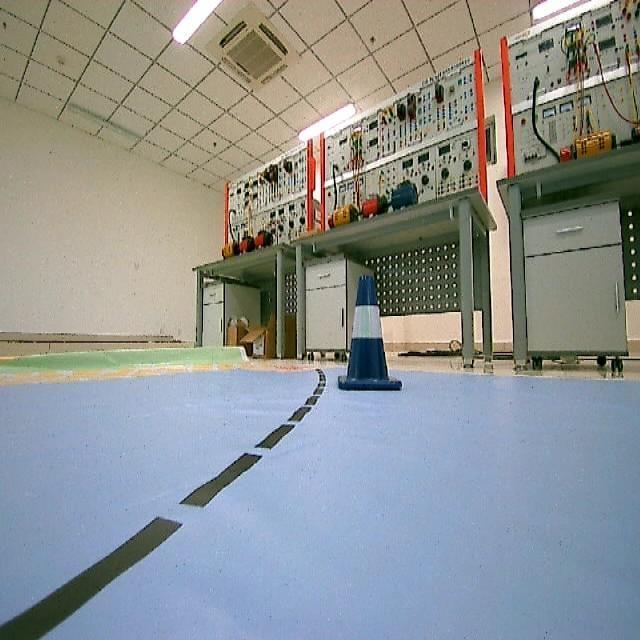obstacle: (328, 272, 405, 400)
